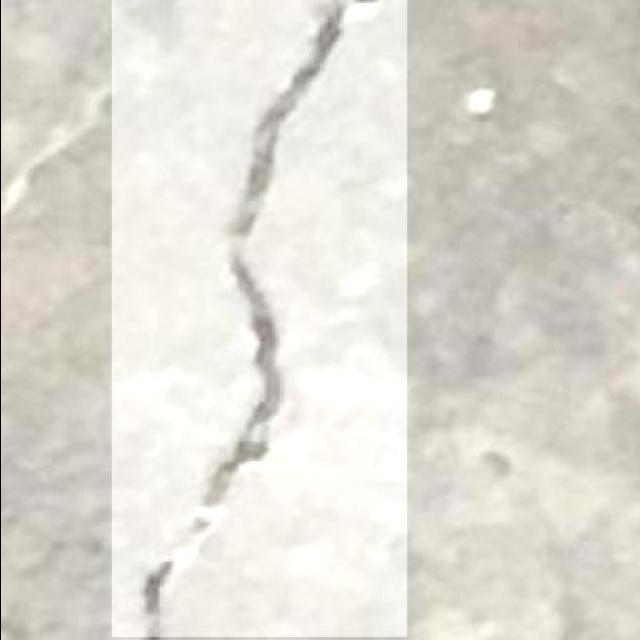SurfaceCrack: (116, 0, 400, 636)
